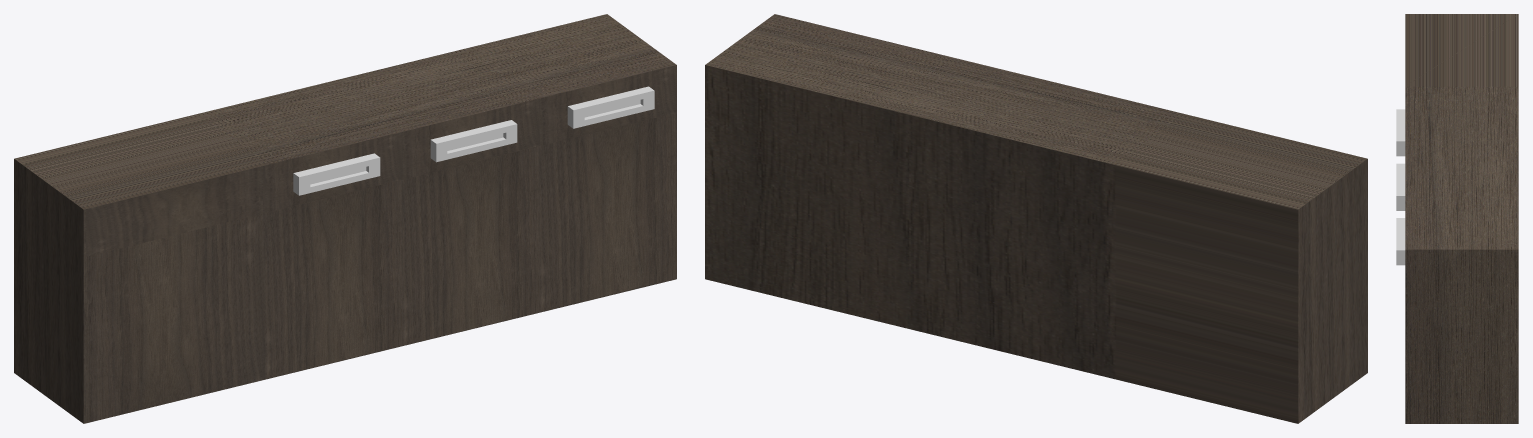
Rendered from Estante Cocina.fbx.
3 views of the same model, side by side, from view 1: azimuth 30°, elevation 25°; view 2: azimuth 150°, elevation 25°; view 3: azimuth 270°, elevation 25° (orthographic). The views are drawn at different scales.
Parts seen in each view (by area): view 1: Cube.006, Cube.008, Cube.011, Cube.010; view 2: Cube.006; view 3: Cube.006, Cube.008, Cube.010, Cube.011.
Boxes of the visible parts, x1,y1,x2,y2 form: Cube.006: (14, 14, 676, 423); Cube.008: (293, 153, 380, 195); Cube.011: (567, 86, 654, 128); Cube.010: (430, 120, 517, 162); Cube.006: (705, 14, 1367, 423); Cube.006: (1405, 14, 1518, 423); Cube.008: (1396, 109, 1405, 156); Cube.010: (1396, 163, 1405, 210); Cube.011: (1396, 218, 1405, 265).
Size of the model in its own units: 1137 by 393 by 250.
